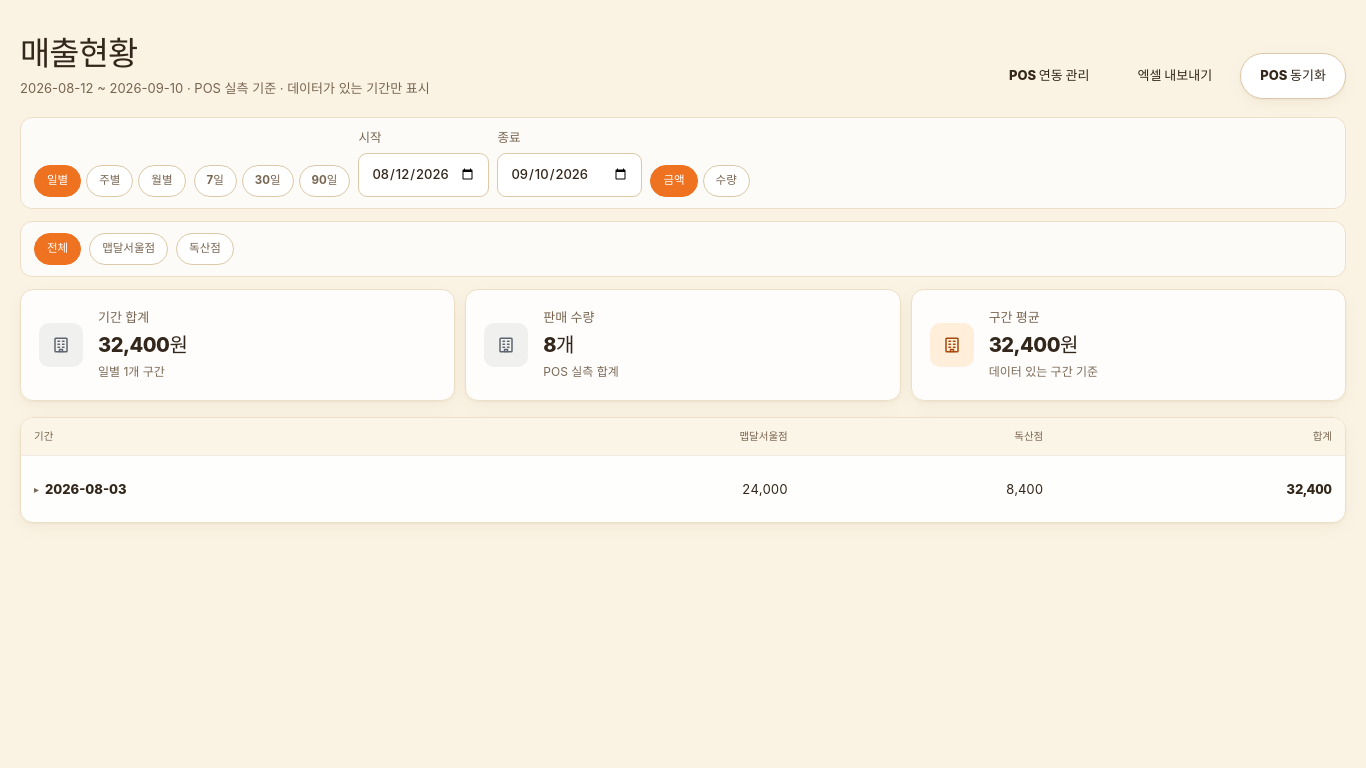
POS 현장 운영 화면 › 매출현황: 매장 피벗을 그리고 행을 클릭하면 품목 내역이 펼쳐진다
This screenshot has width=1366, height=768.
Expected: the text "우유크림도넛" is not shown
Click the button with class "row-toggle".
click(80, 489)  # box [34,467,127,511]
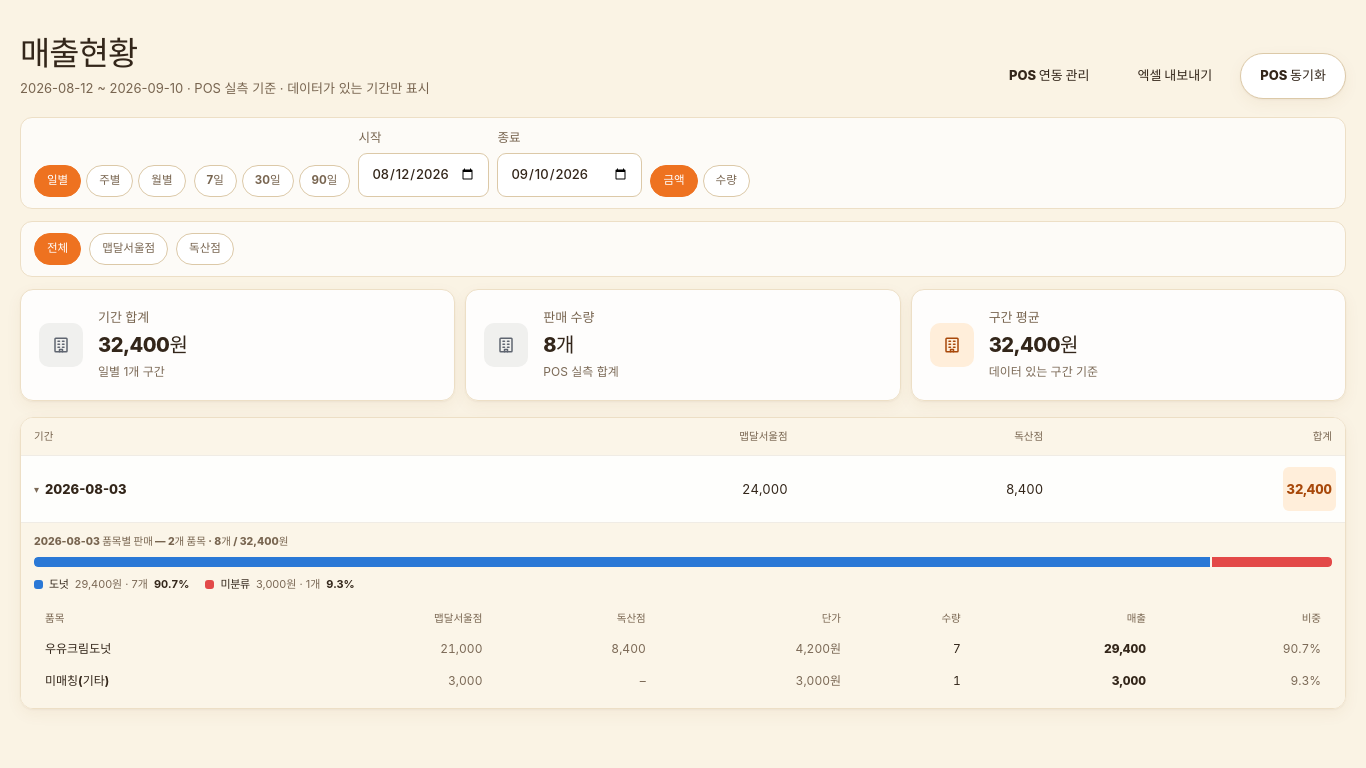
Expected: the text "우유크림도넛" is shown, [34,633,290,665]
Expected: the text "미매칭(기타)" is shown, [34,665,290,697]
Expected: the text "90.7%" is shown, [154,576,190,593]
